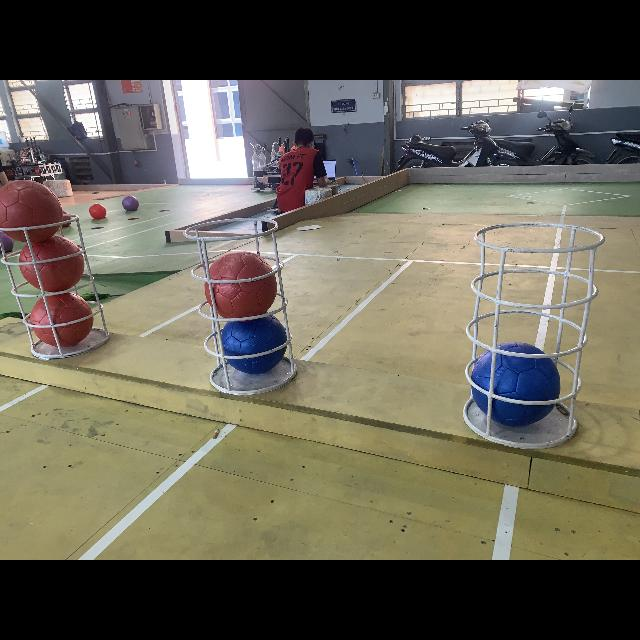B: (472, 341, 562, 429), (220, 316, 288, 374)
R: (204, 251, 278, 317), (1, 178, 62, 242), (30, 291, 96, 349), (17, 237, 85, 291)
